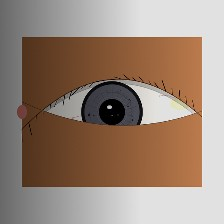pinguecula_lesion: (160, 87, 201, 120)
